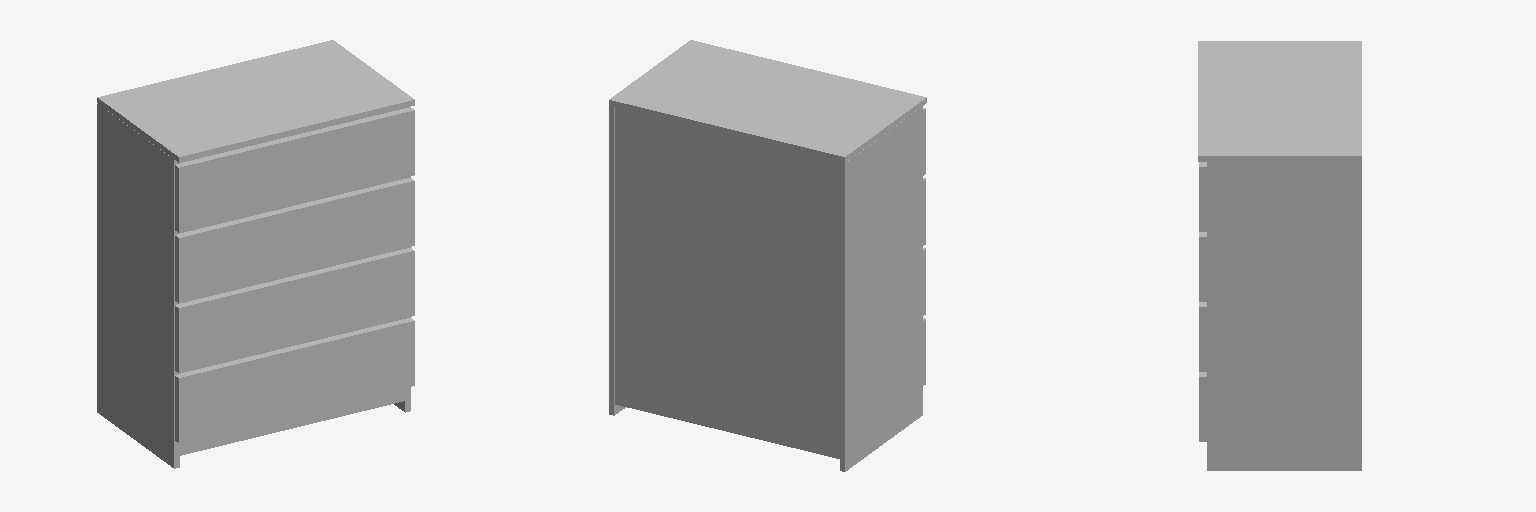
File: MALMx4.obj
The picture shows the model from 3 angles: view 1: azimuth 30°, elevation 25°; view 2: azimuth 150°, elevation 25°; view 3: azimuth 270°, elevation 25°; orthographic projection.
Parts seen in each view (by area): view 1: Cube.007_Cube.008, Cube.001_Cube.002, Cube.003_Cube.004; view 2: Cube.003_Cube.004, Cube.001_Cube.002, Cube.007_Cube.008; view 3: Cube.001_Cube.002, Cube.007_Cube.008.
Part boxes in pixels (x1,y1,x2,y2): Cube.007_Cube.008: (175,107,414,442); Cube.001_Cube.002: (97,40,414,468); Cube.003_Cube.004: (180,108,404,455); Cube.003_Cube.004: (615,107,839,458); Cube.001_Cube.002: (609,40,926,471); Cube.007_Cube.008: (923,108,925,385); Cube.001_Cube.002: (1198,41,1361,470); Cube.007_Cube.008: (1199,162,1206,441).
Size of the model in its own units: 1.6 by 2.04 by 0.9598.